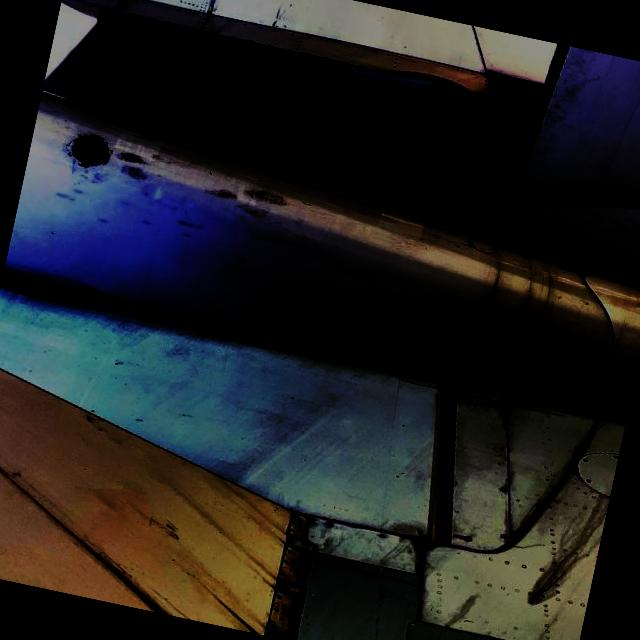crack: (286, 284, 338, 306)
